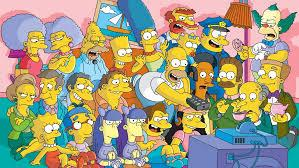Bart: (106, 33, 143, 73)
Homer: (132, 47, 196, 109)
Lisa: (25, 111, 78, 168)
Maggie: (177, 31, 205, 69)
Marge: (127, 0, 168, 68)
